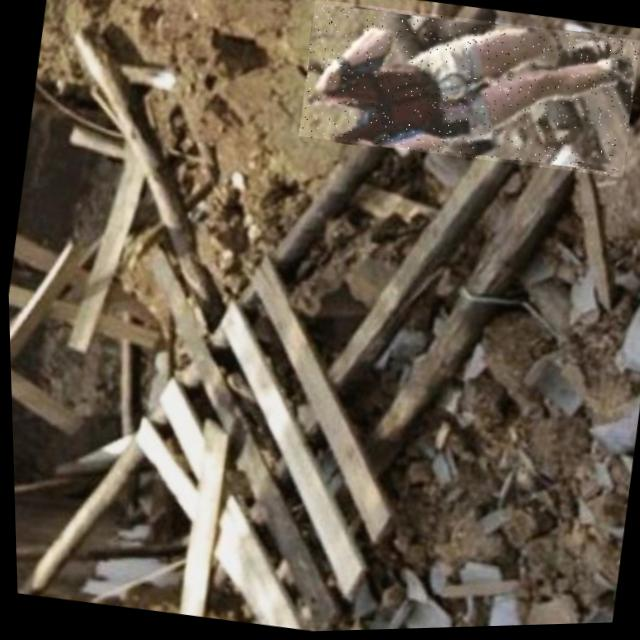Person in Rubble: (294, 0, 640, 188)
